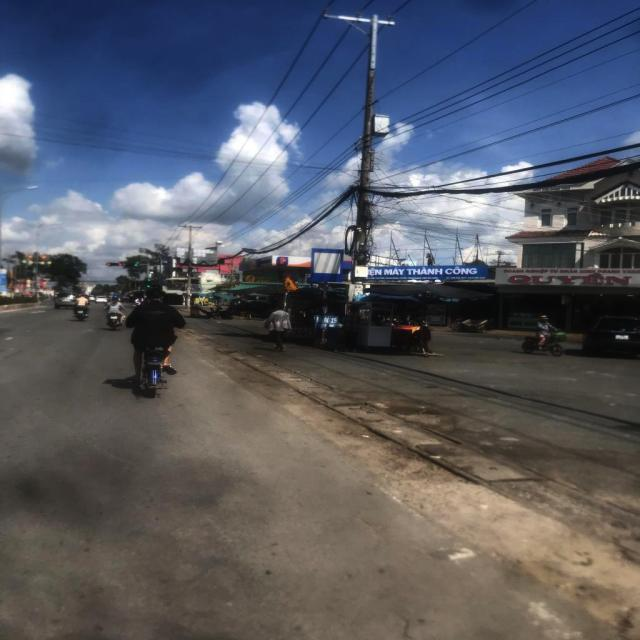chu_y_nguoi_di_bo_cat_ngang: (280, 275, 298, 292)
